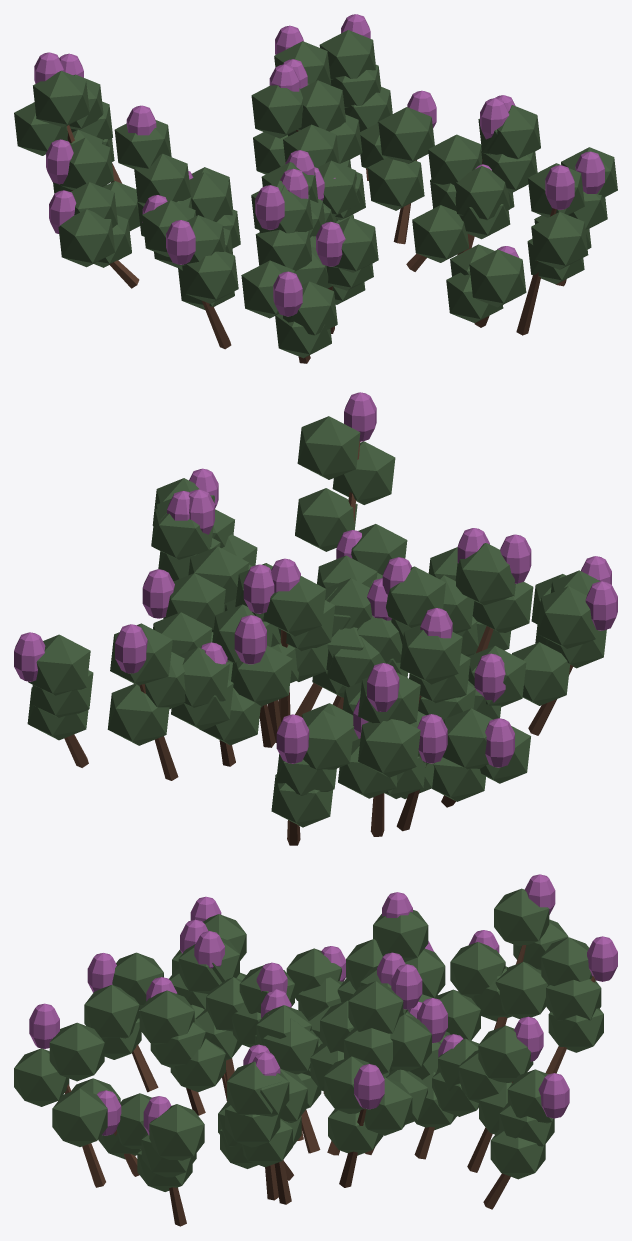
File: detail_heather.glb
The picture shows the model from 3 angles, top to bottom: view 1: azimuth 30°, elevation 25°; view 2: azimuth 150°, elevation 25°; view 3: azimuth 270°, elevation 25°; orthographic projection. The views are drawn at different scales.
Parts seen in each view (by area): view 1: Icosphere.058, Icosphere.029, Icosphere.053, Icosphere.065, Icosphere.019, Icosphere.069, Icosphere.063, Icosphere.067, Icosphere.011, Icosphere.071, Icosphere.049, Icosphere.055 (+58 smaller); view 2: Icosphere.059, Icosphere.052, Icosphere.057, Icosphere.068, Icosphere.050, Icosphere.078, Icosphere.041, Icosphere.044, Icosphere.011, Icosphere.034, Icosphere.066, Icosphere.058 (+60 smaller); view 3: Icosphere.057, Icosphere.059, Icosphere.077, Icosphere.053, Icosphere.004, Icosphere.080, Icosphere.032, Icosphere.083, Icosphere.051, Icosphere.058, Icosphere.017, Icosphere.050 (+74 smaller).
Part boxes in pixels (<box>): Icosphere.058: <box>531,212,588,269</box>; Icosphere.029: <box>469,249,526,307</box>; Icosphere.053: <box>33,70,89,127</box>; Icosphere.065: <box>378,107,434,163</box>; Icosphere.019: <box>58,209,115,267</box>; Icosphere.069: <box>412,205,468,262</box>; Icosphere.063: <box>367,157,424,210</box>; Icosphere.067: <box>182,251,238,303</box>; Icosphere.011: <box>251,85,303,138</box>; Icosphere.071: <box>454,166,510,220</box>; Icosphere.049: <box>134,153,191,203</box>; Icosphere.055: <box>428,134,482,184</box>; Icosphere.059: <box>297,416,360,479</box>; Icosphere.052: <box>358,719,420,777</box>; Icosphere.057: <box>295,488,357,551</box>; Icosphere.068: <box>537,586,596,648</box>; Icosphere.050: <box>400,625,462,684</box>; Icosphere.078: <box>107,684,169,745</box>; Icosphere.041: <box>455,543,514,605</box>; Icosphere.044: <box>28,634,90,695</box>; Icosphere.011: <box>263,576,326,636</box>; Icosphere.034: <box>231,645,292,706</box>; Icosphere.066: <box>512,642,569,705</box>; Icosphere.058: <box>332,441,395,504</box>; Icosphere.057: <box>52,1088,107,1146</box>; Icosphere.059: <box>49,1022,104,1081</box>; Icosphere.077: <box>149,1104,204,1160</box>; Icosphere.053: <box>494,888,549,946</box>; Icosphere.004: <box>84,985,139,1038</box>; Icosphere.080: <box>478,1025,533,1082</box>; Icosphere.032: <box>139,990,194,1044</box>; Icosphere.083: <box>348,981,403,1033</box>; Icosphere.051: <box>495,962,547,1018</box>; Icosphere.058: <box>14,1048,69,1106</box>; Icosphere.017: <box>450,942,505,998</box>; Icosphere.050: <box>373,910,428,961</box>.
Size of the model in its own units: 1.44 by 0.5787 by 1.68.
